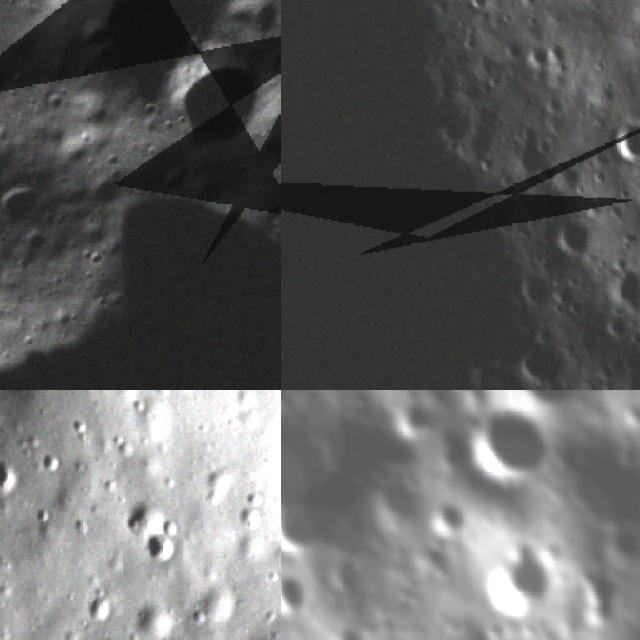crater: (0, 91, 281, 390), (281, 403, 432, 579), (57, 0, 240, 124), (145, 20, 281, 174), (535, 425, 640, 557), (452, 395, 570, 502), (468, 540, 563, 632), (483, 390, 635, 428), (0, 165, 51, 241), (565, 565, 620, 629), (67, 6, 121, 64), (426, 427, 484, 481), (281, 499, 327, 566), (281, 564, 324, 632), (513, 333, 569, 382), (384, 393, 436, 445), (82, 165, 129, 214), (542, 211, 598, 251), (418, 494, 469, 537), (132, 595, 180, 640), (324, 549, 369, 594), (238, 0, 281, 45), (10, 220, 52, 265), (606, 257, 640, 308), (74, 238, 114, 280), (516, 266, 556, 304), (620, 0, 640, 74), (608, 115, 640, 161), (318, 614, 371, 640), (407, 390, 456, 416), (204, 470, 237, 504), (88, 586, 116, 626), (523, 42, 566, 68), (240, 495, 267, 529), (143, 538, 180, 562), (0, 55, 17, 101), (0, 455, 21, 492), (269, 158, 281, 209), (31, 502, 51, 532), (191, 597, 211, 626), (39, 451, 63, 473), (160, 514, 180, 538), (466, 0, 497, 11)
